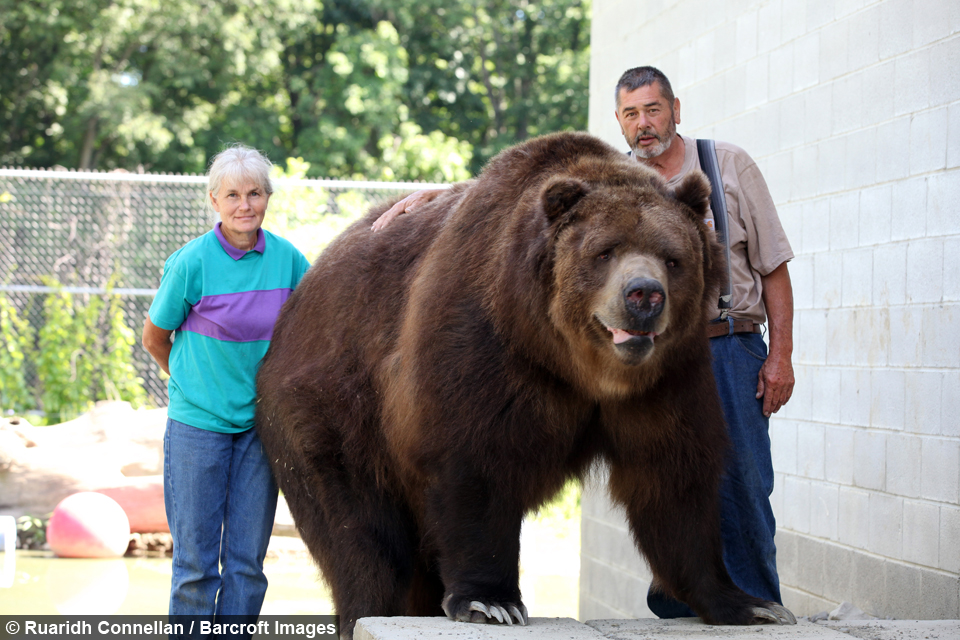bear: (536, 169, 715, 374)
